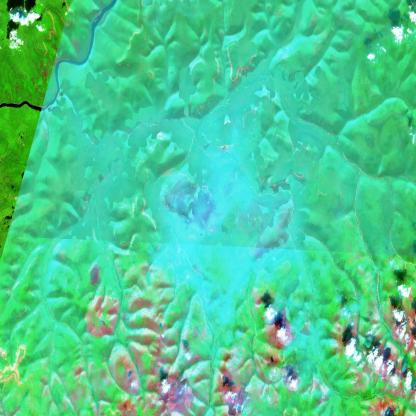fire: (161, 174, 217, 234)
